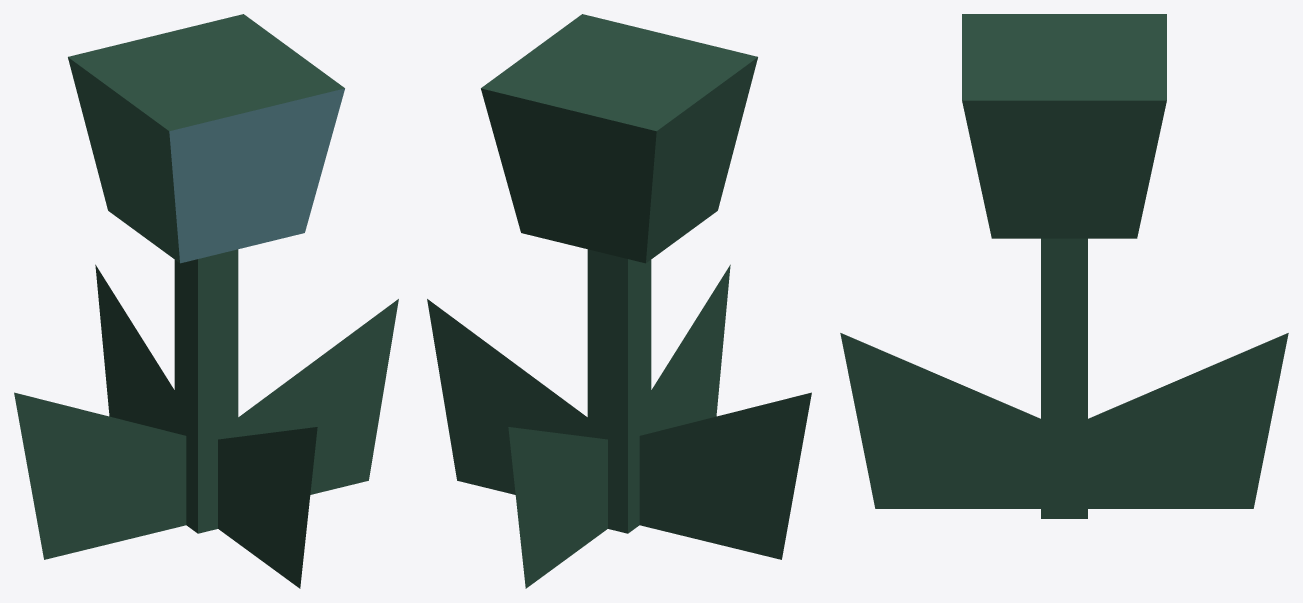
Rendered from Flower_Tall_Yellow_02.obj.
3 views of the same model, side by side, from view 1: azimuth 30°, elevation 25°; view 2: azimuth 150°, elevation 25°; view 3: azimuth 270°, elevation 25° (orthographic).
Parts seen in each view (by area): view 1: Mesh1_Flower_Tall_Yellow_Model.001, Mesh5_Flower_Tall_Yellow_Model.001, Mesh2_Flower_Tall_Yellow_Model.001, Mesh4_Flower_Tall_Yellow_Model.001, Mesh3_Flower_Tall_Yellow_Model.001; view 2: Mesh1_Flower_Tall_Yellow_Model.001, Mesh5_Flower_Tall_Yellow_Model.001, Mesh2_Flower_Tall_Yellow_Model.001, Mesh3_Flower_Tall_Yellow_Model.001, Mesh4_Flower_Tall_Yellow_Model.001; view 3: Mesh1_Flower_Tall_Yellow_Model.001, Mesh4_Flower_Tall_Yellow_Model.001, Mesh3_Flower_Tall_Yellow_Model.001.
Boxes of the visible parts, x1,y1,x2,y2 form: Mesh1_Flower_Tall_Yellow_Model.001: [68, 14, 344, 533]; Mesh5_Flower_Tall_Yellow_Model.001: [14, 392, 186, 559]; Mesh2_Flower_Tall_Yellow_Model.001: [238, 299, 398, 494]; Mesh4_Flower_Tall_Yellow_Model.001: [218, 427, 317, 588]; Mesh3_Flower_Tall_Yellow_Model.001: [95, 264, 174, 432]; Mesh1_Flower_Tall_Yellow_Model.001: [481, 14, 757, 533]; Mesh5_Flower_Tall_Yellow_Model.001: [639, 392, 811, 559]; Mesh2_Flower_Tall_Yellow_Model.001: [427, 299, 587, 494]; Mesh3_Flower_Tall_Yellow_Model.001: [508, 427, 607, 588]; Mesh4_Flower_Tall_Yellow_Model.001: [651, 264, 730, 432]; Mesh1_Flower_Tall_Yellow_Model.001: [962, 14, 1166, 518]; Mesh4_Flower_Tall_Yellow_Model.001: [840, 333, 1040, 508]; Mesh3_Flower_Tall_Yellow_Model.001: [1088, 333, 1288, 508].
Size of the model in its own units: 0.4859 by 0.54 by 0.4859.
